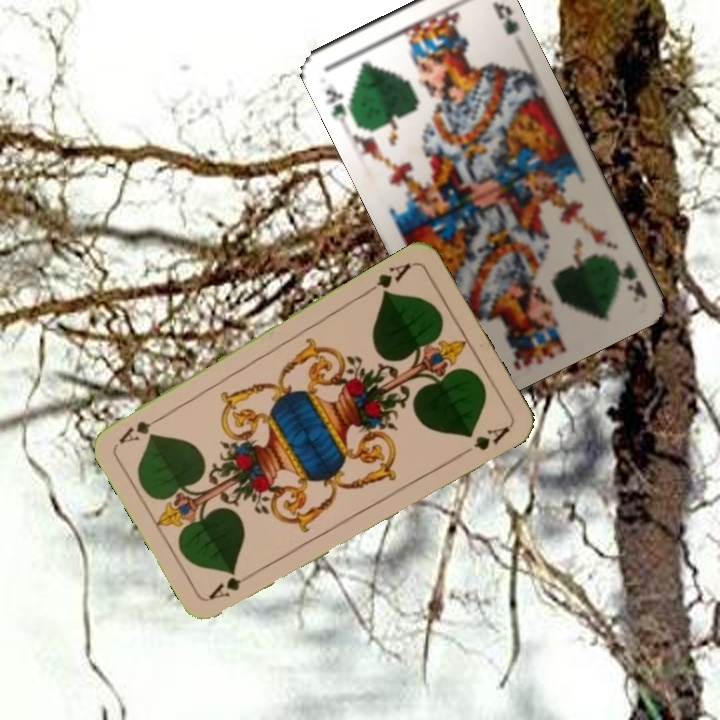GA: (362, 258, 414, 299), (205, 568, 260, 603)
GK: (604, 251, 649, 300), (321, 84, 350, 124)
